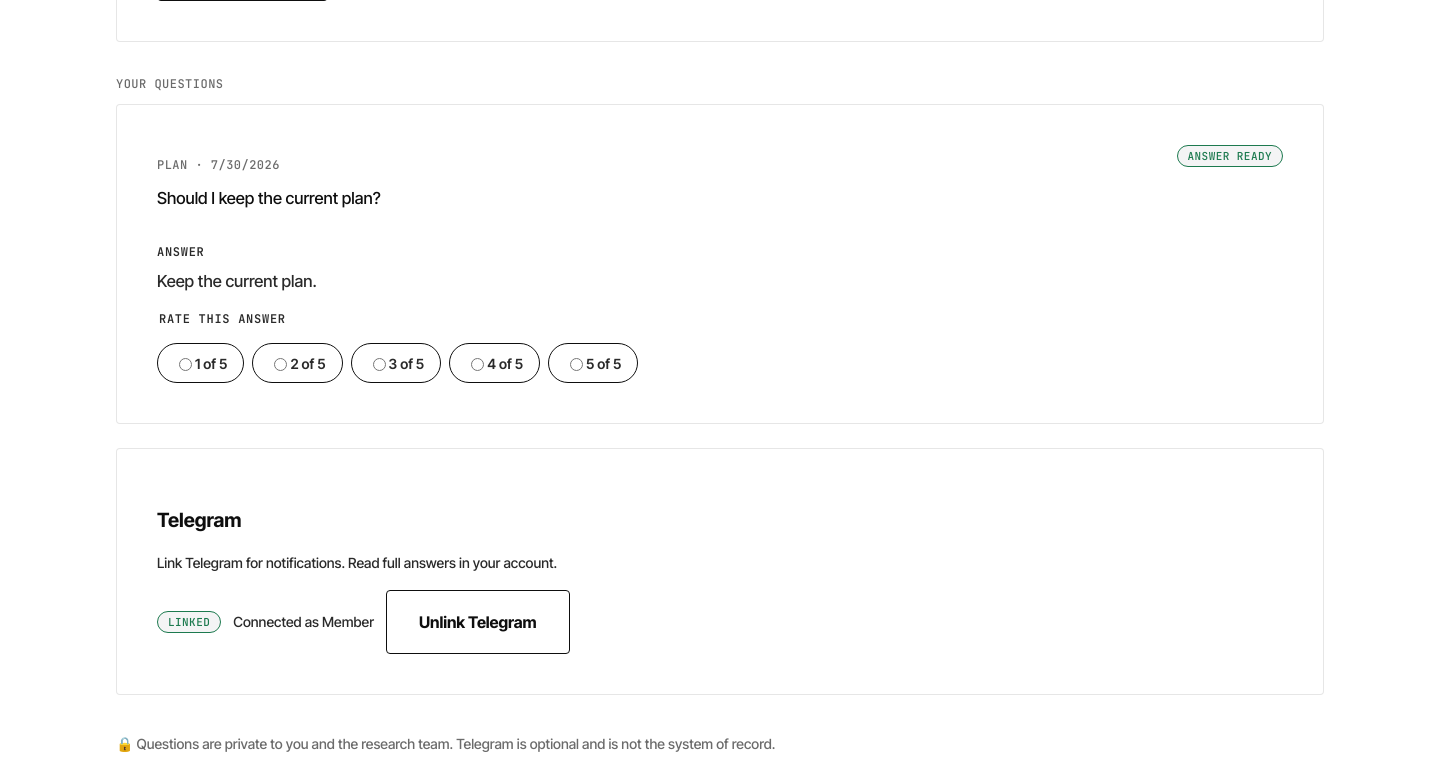
Scenario: Questions › renders a valid answer and saves a keyboard-native rating
(page scrolled)
Click the radio button named "rating-q-1" at point(576, 364), box [570, 358, 583, 371]
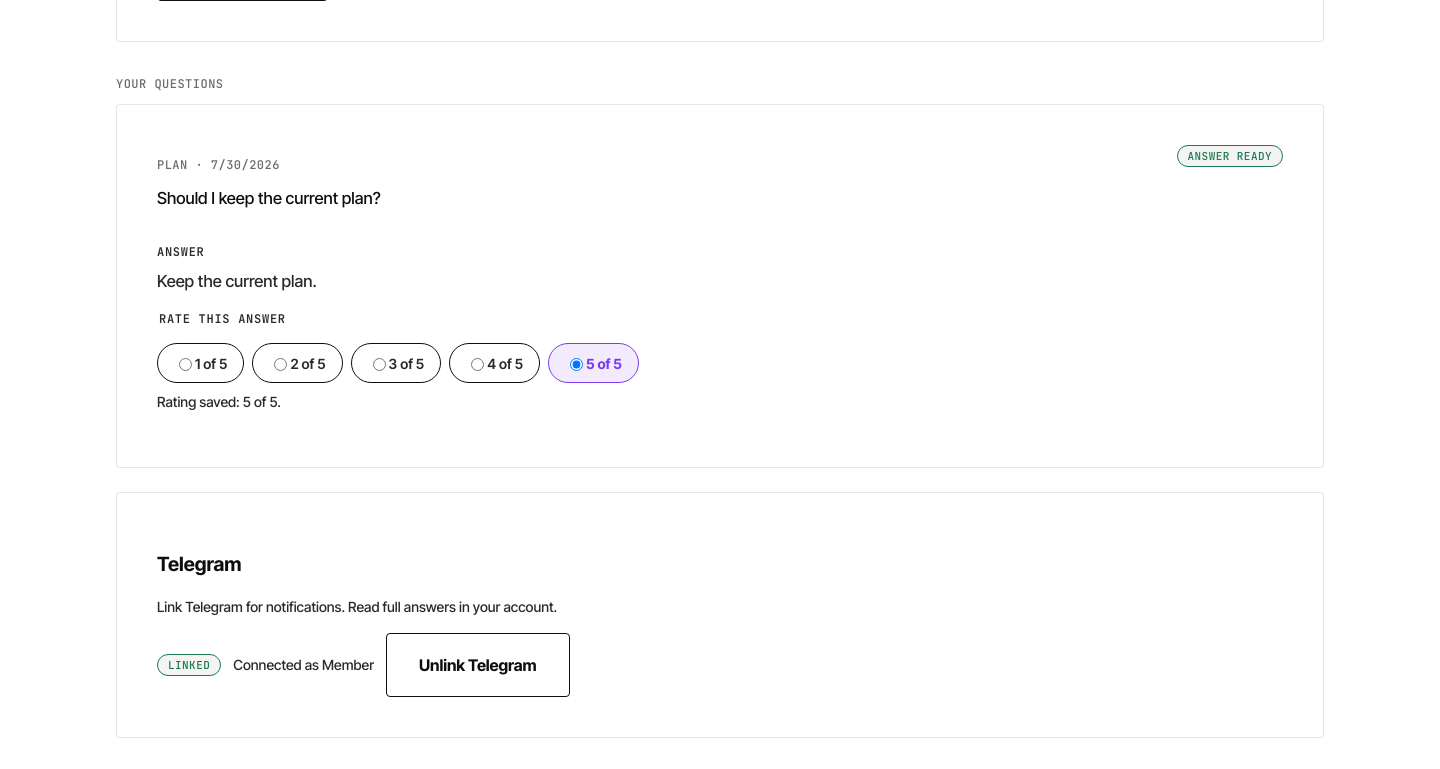
Now the text "Rating saved: 5 of 5" is shown, box [157, 393, 281, 410]
